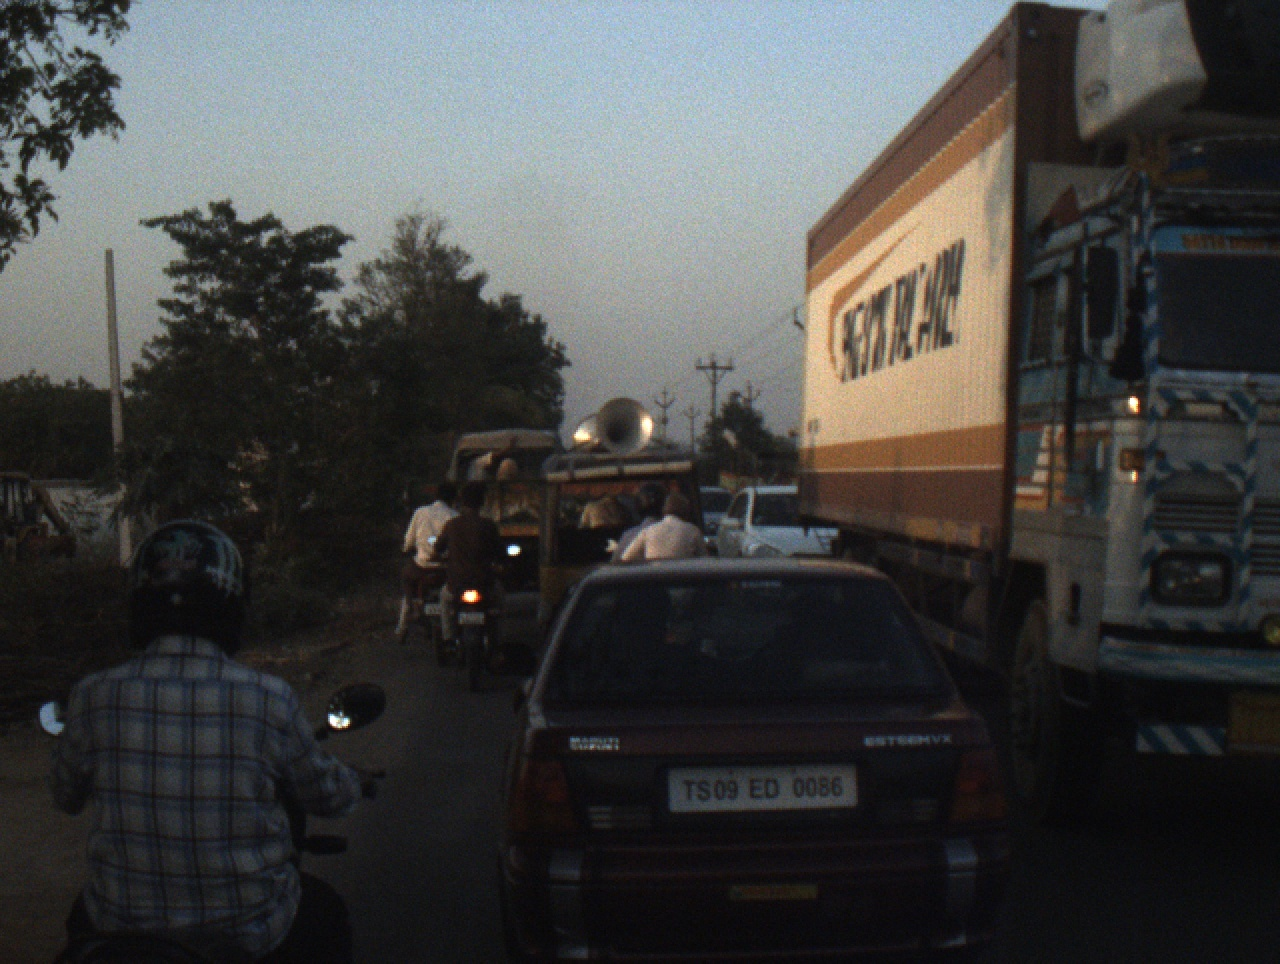car: (502, 558, 1017, 964), (538, 397, 705, 662), (447, 427, 567, 585), (715, 484, 847, 560), (704, 486, 737, 538)
motorcycle: (35, 671, 392, 964), (425, 534, 524, 696), (600, 532, 623, 549)
rider: (45, 519, 367, 961), (441, 482, 510, 660), (400, 484, 461, 608), (389, 494, 435, 643), (618, 490, 707, 566), (609, 479, 665, 565)
truck: (796, 1, 1280, 806)
vehicle fallback: (1, 466, 87, 567)
